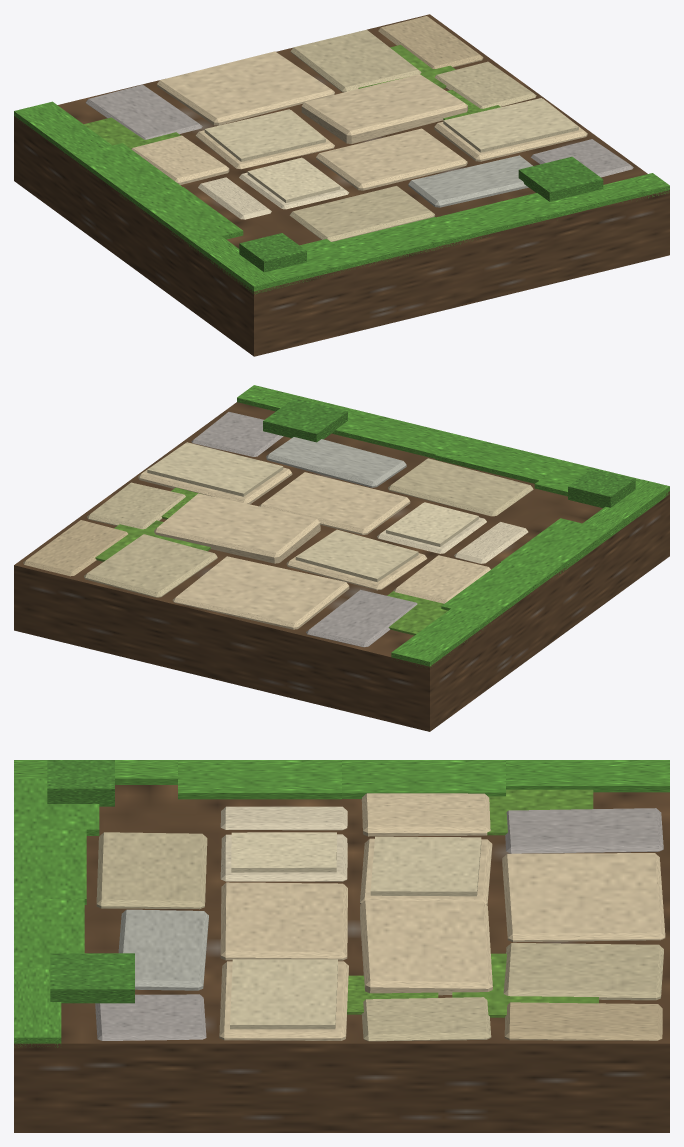
The model's file is Chemin_Virage_A.obj.
3 views of the same model, one above another, from view 1: azimuth 30°, elevation 25°; view 2: azimuth 150°, elevation 25°; view 3: azimuth 270°, elevation 25° (orthographic). The views are drawn at different scales.
Parts seen in each view (by area): view 1: Chemin_Virage_A; view 2: Chemin_Virage_A; view 3: Chemin_Virage_A.
Part boxes in pixels (x1,y1,x2,y2): Chemin_Virage_A: (14, 14, 669, 356); Chemin_Virage_A: (14, 385, 669, 731); Chemin_Virage_A: (14, 760, 669, 1132).
Size of the model in its own units: 8 by 1.49 by 8.
1 material, 1 textured.
